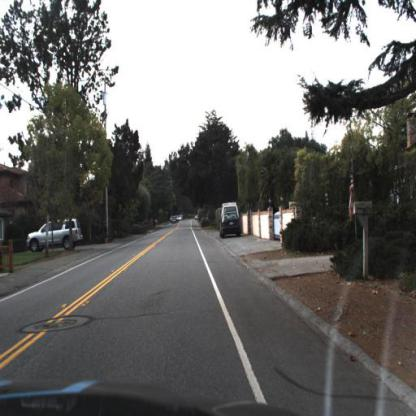car: (27, 216, 85, 253), (220, 211, 243, 239), (219, 204, 242, 226), (170, 216, 178, 228), (167, 215, 173, 227), (194, 211, 200, 223), (178, 212, 183, 224)
